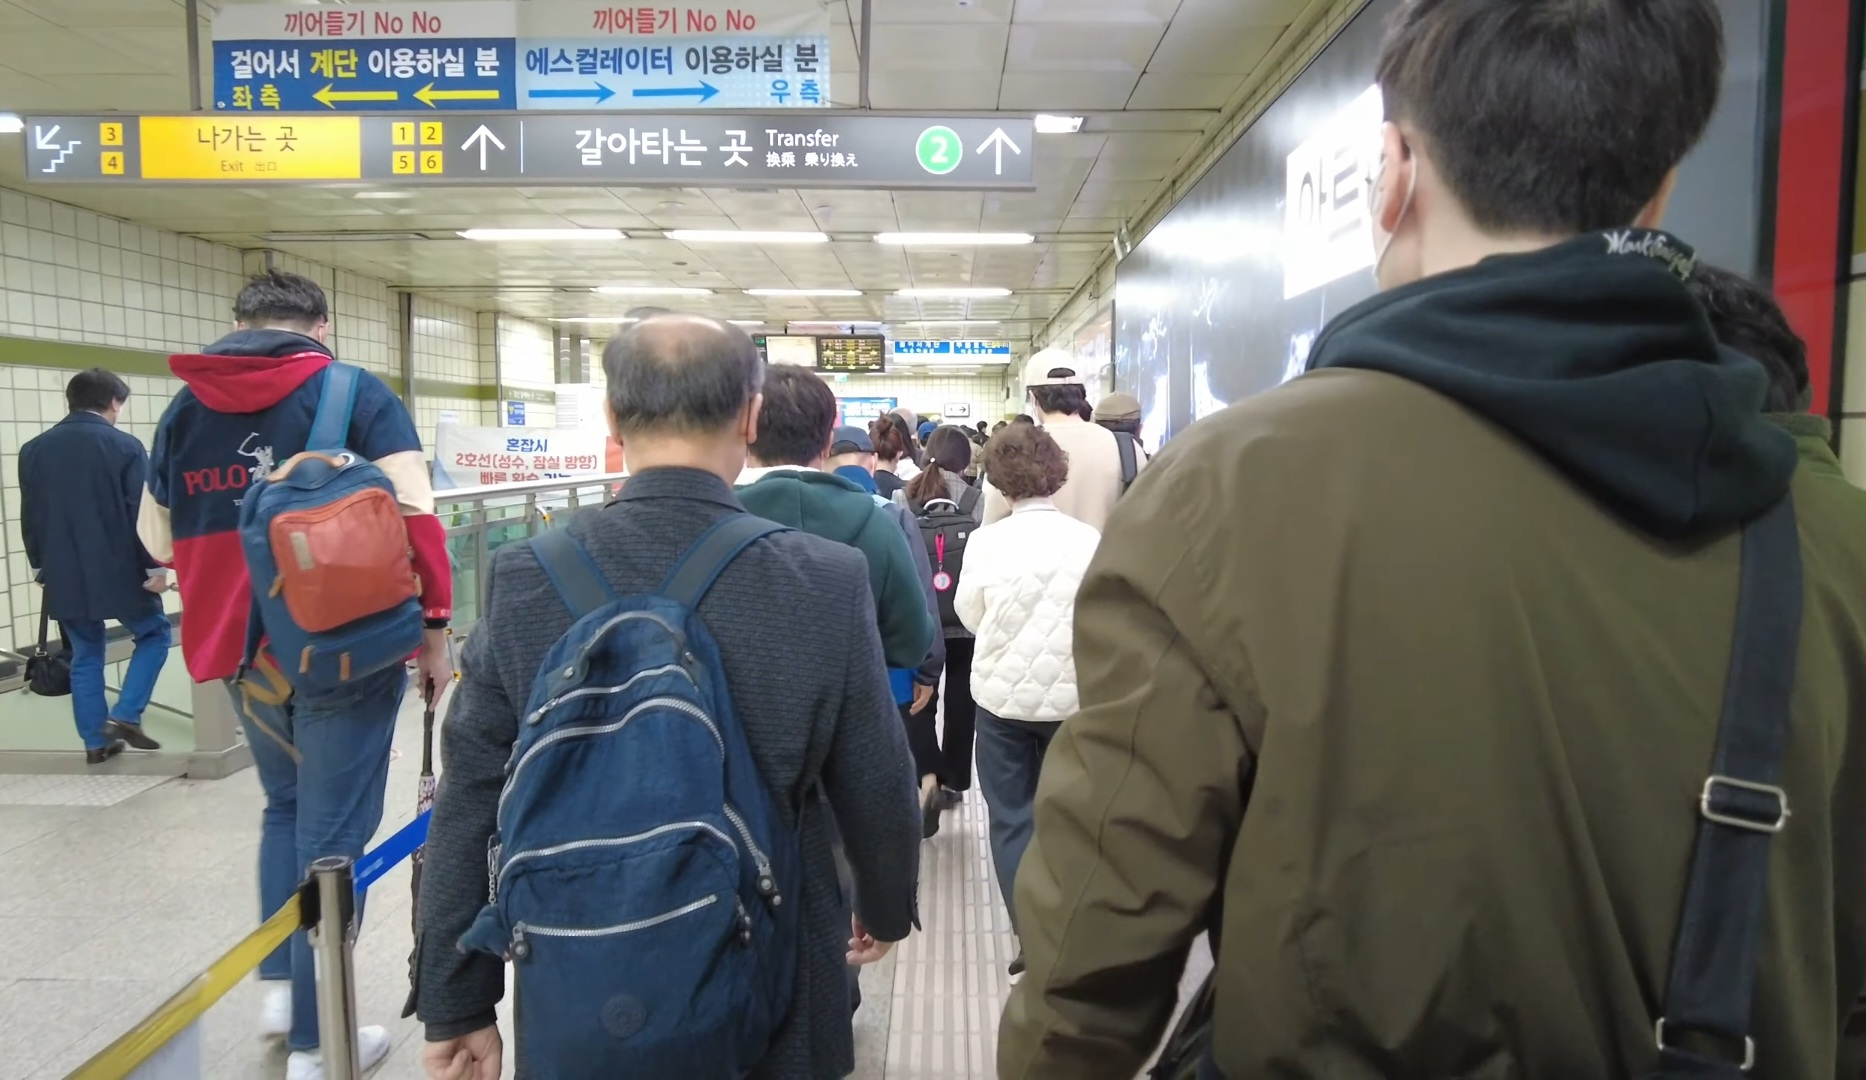signBoard: (15, 68, 1065, 210)
